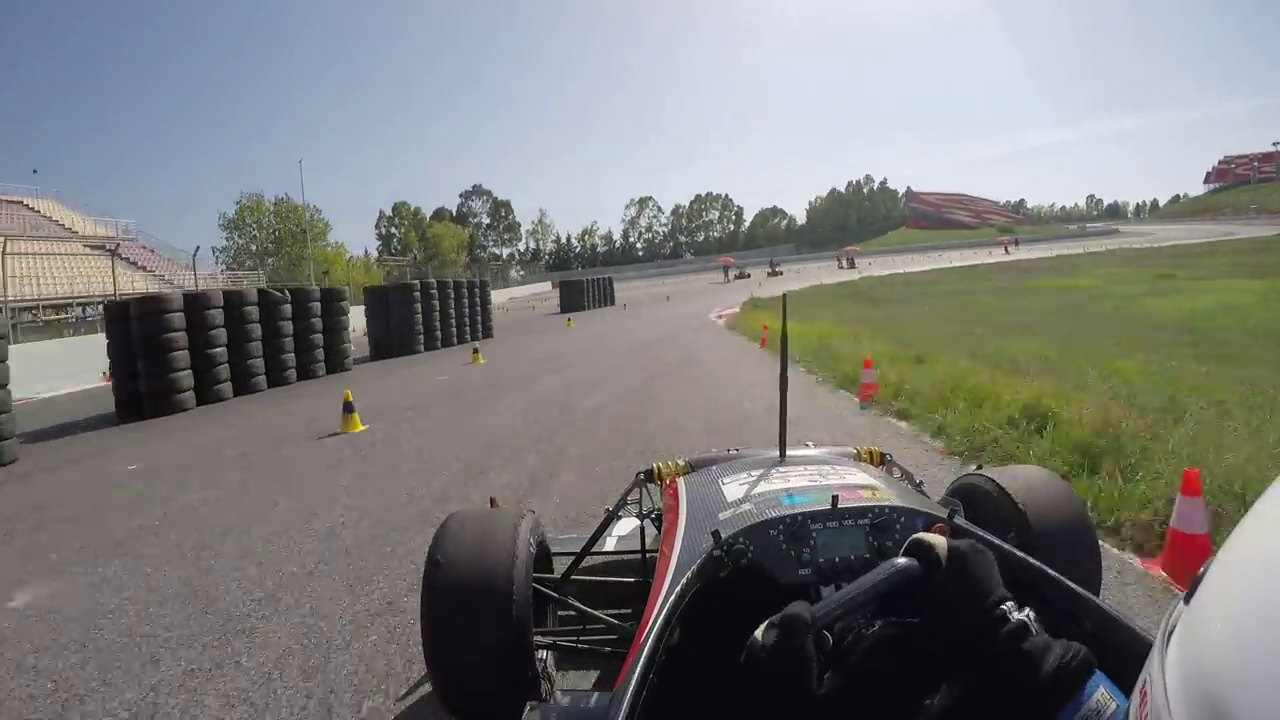Cone: (1152, 466, 1223, 579), (338, 386, 368, 435), (857, 352, 884, 398)
